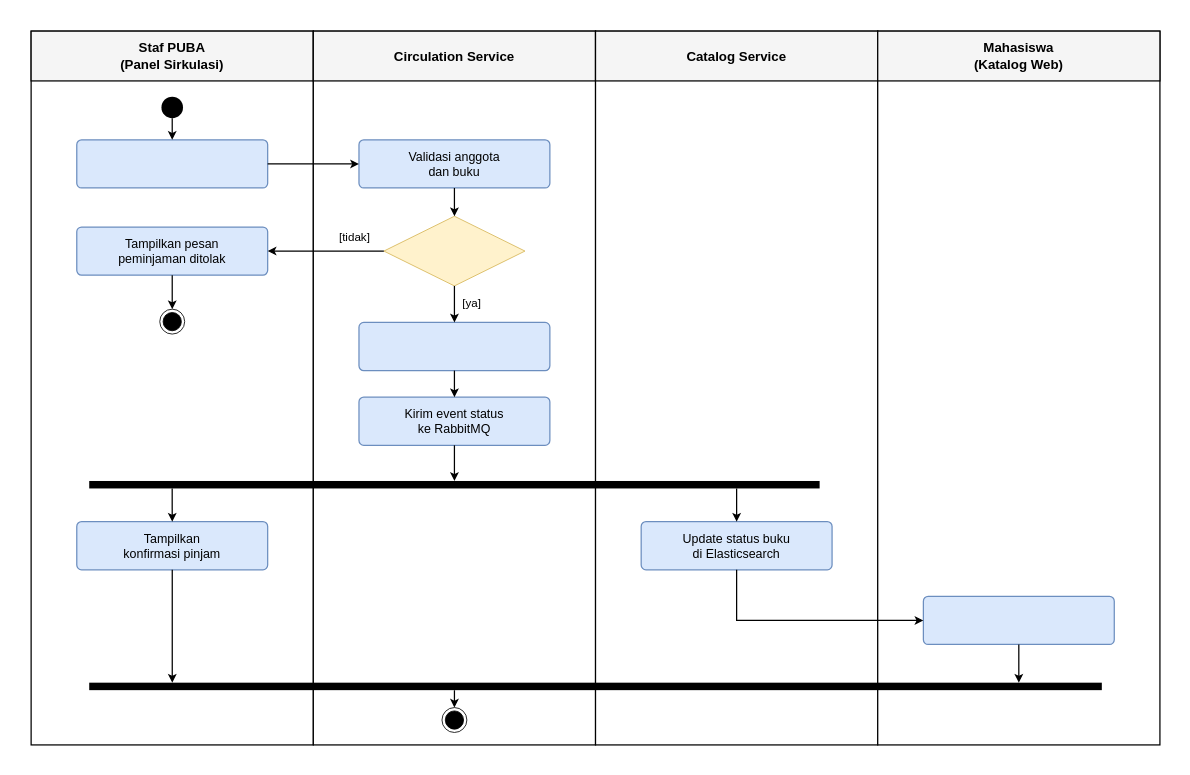
Some shapes in this 1190 by 775 pixel diagram are drawn without their labels. Each missing label, with the box of its shape:
Buku tersedia?: (383, 215, 525, 286)
Scan KTM dan barcode buku: (76, 139, 268, 188)
Simpan transaksi ke PostgreSQL: (358, 321, 550, 371)
Tampilkan status Dipinjam + lokasi rak: (922, 595, 1115, 645)
